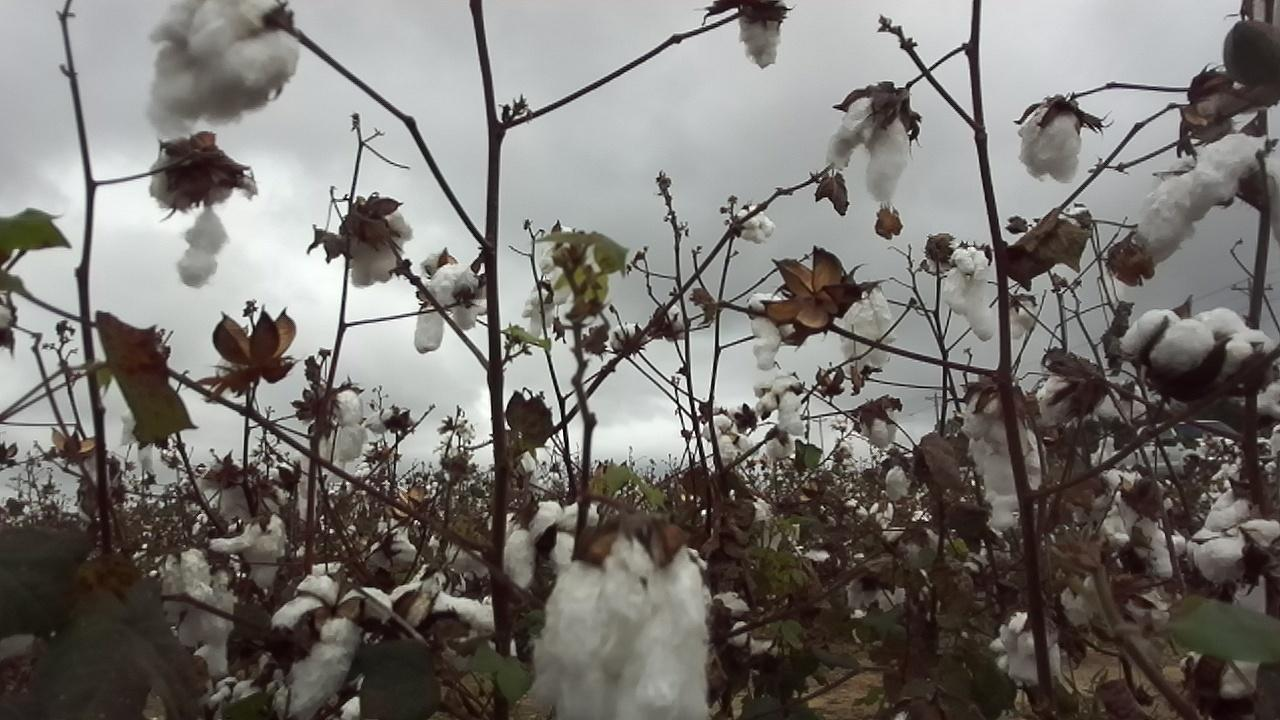cotton_ready: (525, 539, 710, 720), (147, 0, 300, 143), (262, 573, 393, 713), (1135, 133, 1269, 263), (148, 136, 260, 287), (961, 393, 1041, 529), (489, 499, 601, 586), (1185, 484, 1280, 583), (828, 95, 910, 204), (1094, 470, 1175, 579), (1122, 307, 1229, 389), (155, 546, 237, 645), (1195, 307, 1275, 395), (341, 208, 414, 290), (415, 266, 483, 354), (839, 287, 899, 376), (212, 516, 288, 586), (991, 613, 1061, 684), (943, 247, 996, 340), (1017, 106, 1083, 179), (392, 582, 496, 627), (200, 460, 270, 525), (751, 291, 799, 372), (753, 372, 805, 437), (317, 390, 363, 461), (739, 0, 783, 69), (1034, 373, 1083, 429), (858, 409, 900, 447), (879, 457, 912, 503)
